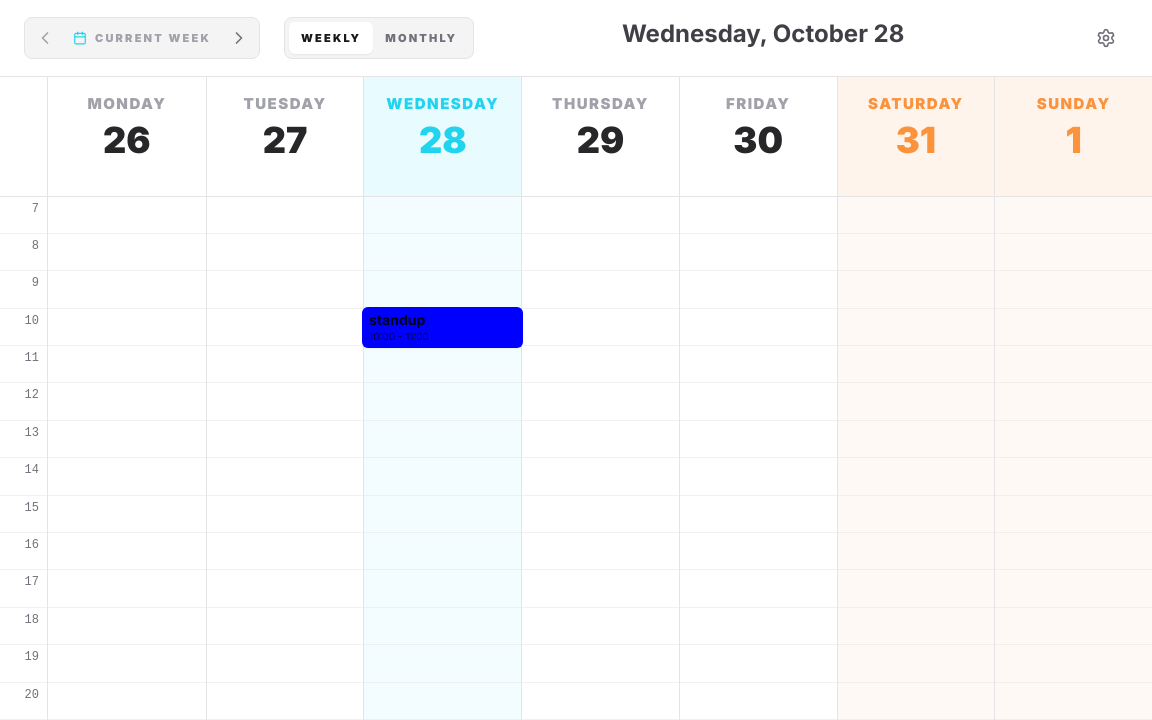
Test: Dashboard week navigation › Previous Week back into a loaded month shows it from the cache, refreshing in the background
This screenshot has width=1152, height=720.
Click the button with test id "next-week-button": (239, 38) [223,22,255,54]
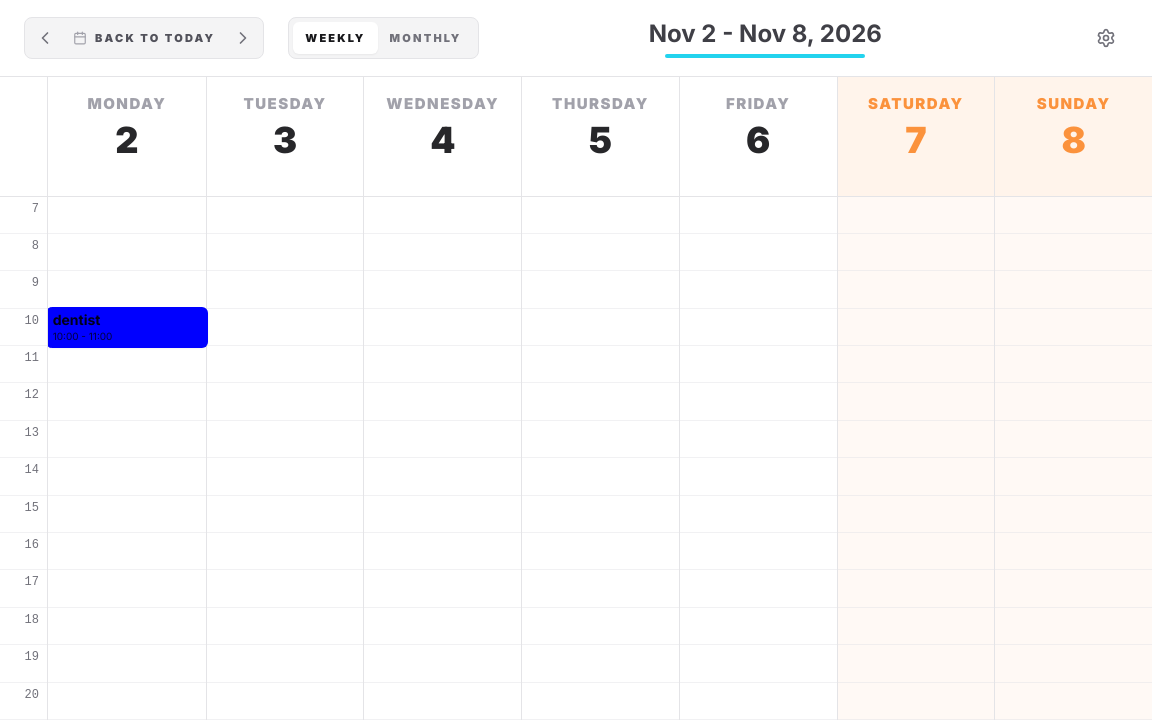
Click the button with test id "prev-week-button": (45, 38) [29,22,61,54]
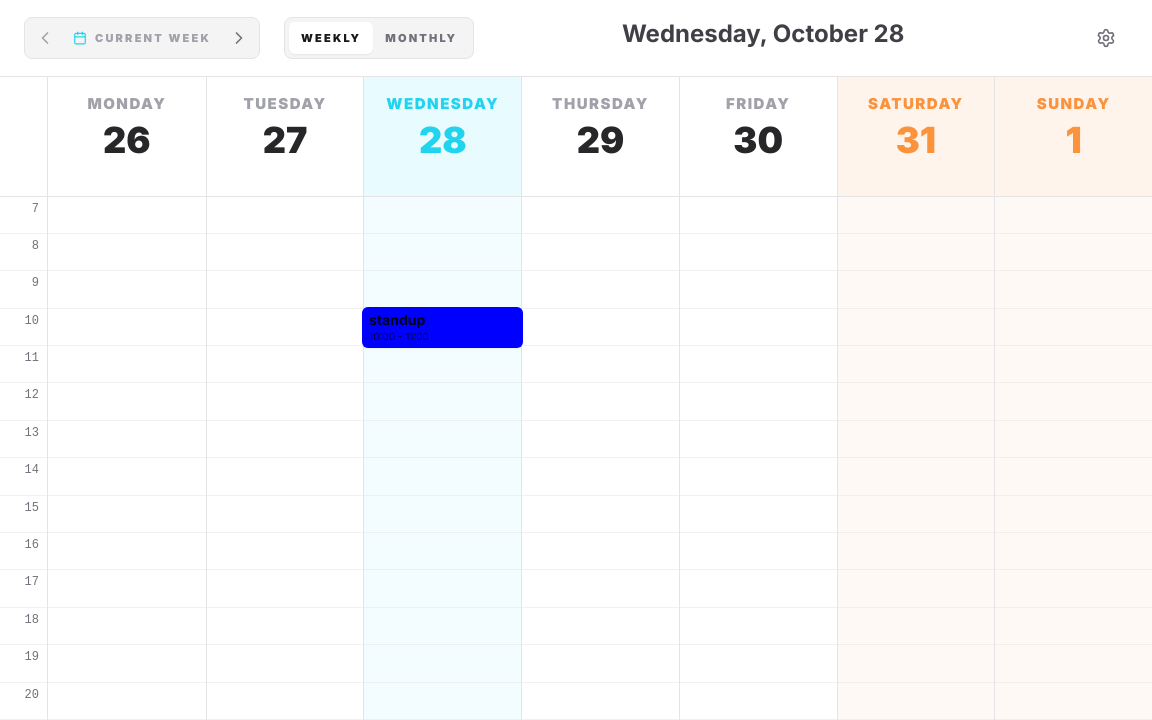
Expected: the element with test id "event-card-standup" is shown, [362,307,524,348]
